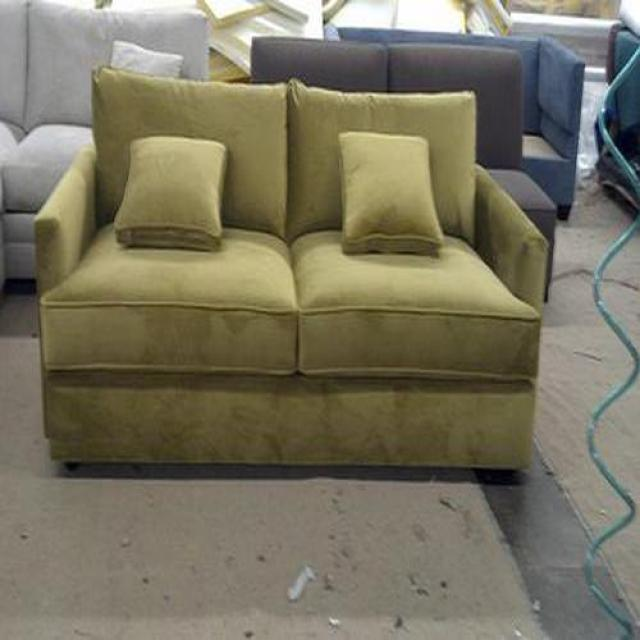sofa: (31, 67, 556, 477)
